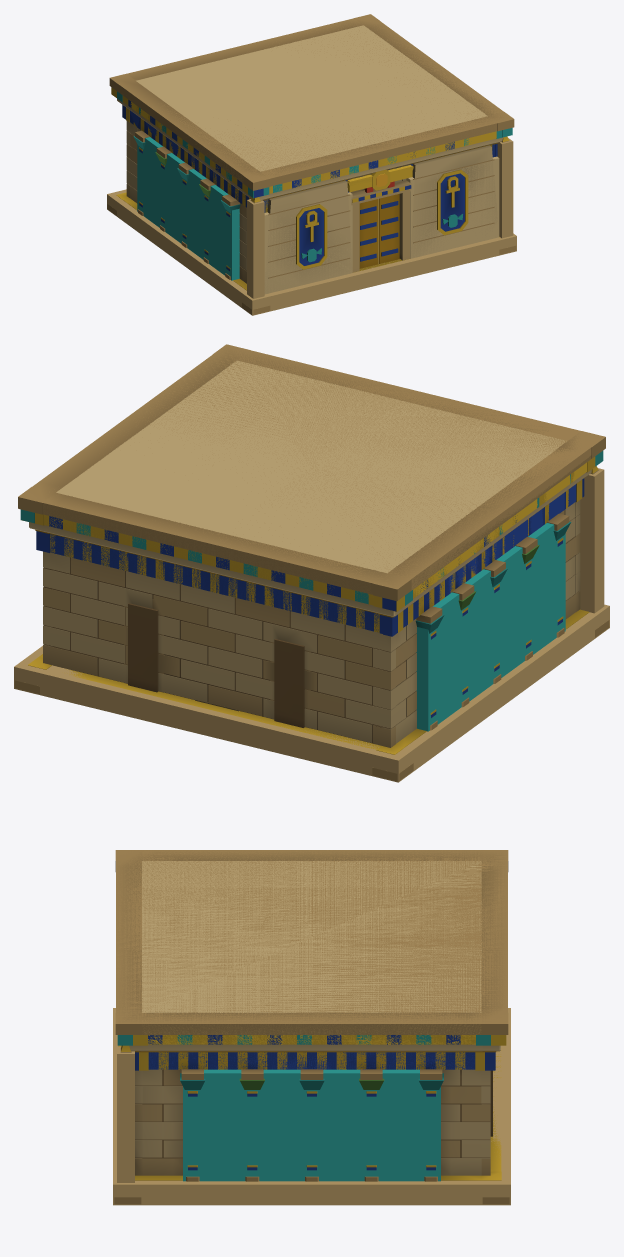
The model's file is TutMaskFloor.fbx.
3 views of the same model, one above another, from view 1: azimuth 30°, elevation 25°; view 2: azimuth 150°, elevation 25°; view 3: azimuth 270°, elevation 25° (orthographic). The views are drawn at different scales.
Visible parts, largest first — view 1: TU_S_All, TU_F_Smooth, TU_F_Rings, TU_F_Quiet; view 2: TU_S_All, TU_F_Smooth, TU_F_Rings, TU_F_Quiet; view 3: TU_S_All, TU_F_Smooth, TU_F_Rings, TU_F_Quiet.
Part boxes in pixels (<box>): TU_S_All: <box>107,16,516,315</box>; TU_F_Smooth: <box>107,14,516,314</box>; TU_F_Rings: <box>123,105,494,270</box>; TU_F_Quiet: <box>126,133,364,283</box>; TU_S_All: <box>14,346,609,782</box>; TU_F_Smooth: <box>15,344,609,781</box>; TU_F_Rings: <box>43,477,585,747</box>; TU_F_Quiet: <box>43,510,580,747</box>; TU_S_All: <box>113,850,510,1205</box>; TU_F_Smooth: <box>114,850,509,1204</box>; TU_F_Rings: <box>135,1050,500,1175</box>; TU_F_Quiet: <box>135,1069,490,1175</box>.
Bounding box in the file's own units: 60 × 20 × 60.
